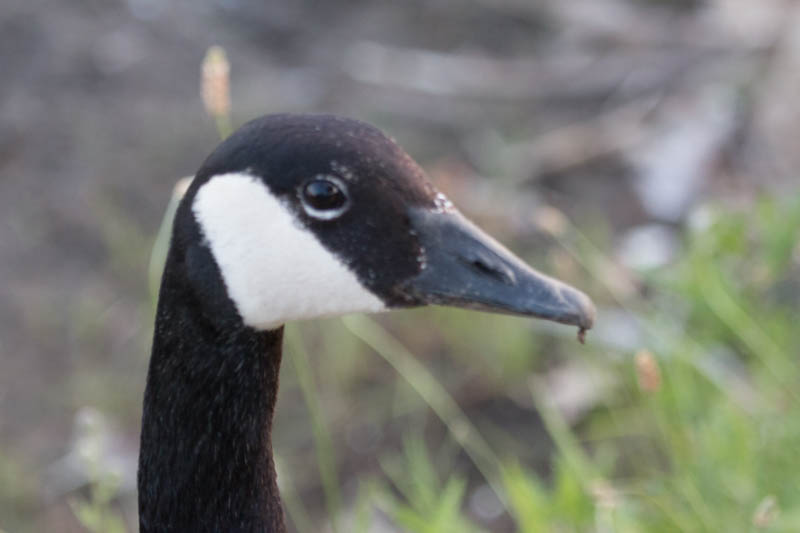goose-head: (152, 112, 600, 331)
